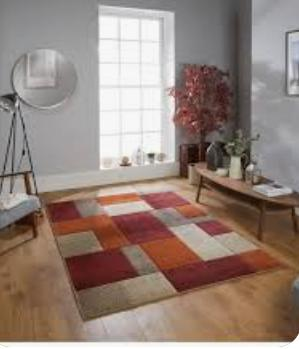carpet: (46, 148, 283, 322)
